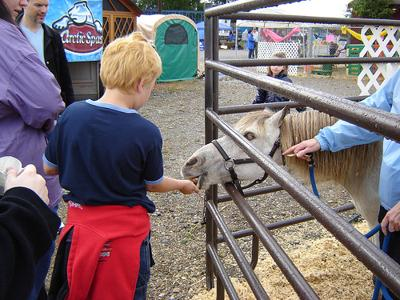person: (47, 31, 200, 300)
